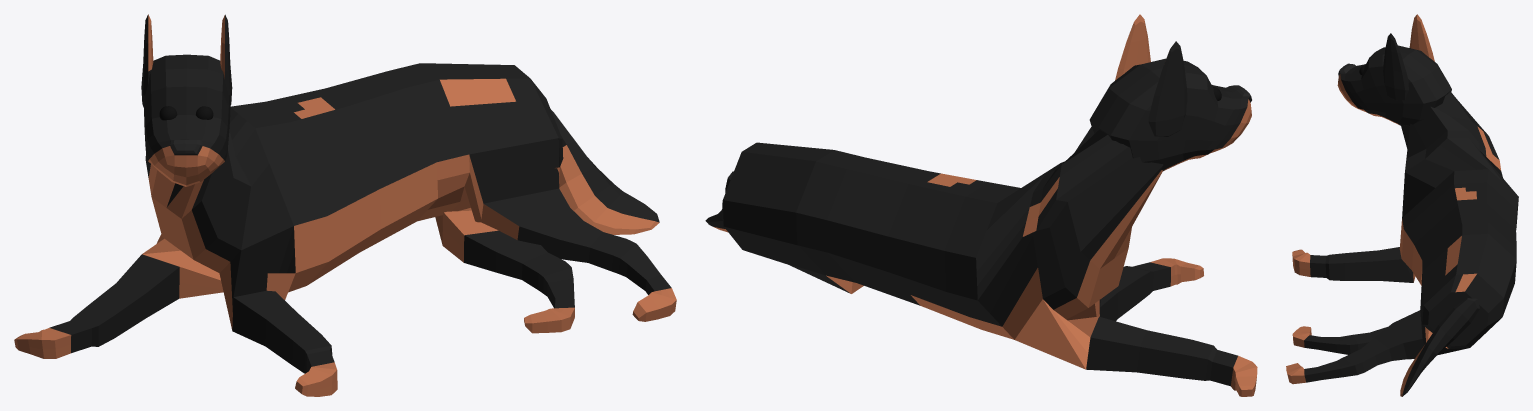
Rendered from Daisy deitada.fbx.
3 renders of one model, left to right at view 1: azimuth 30°, elevation 25°; view 2: azimuth 150°, elevation 25°; view 3: azimuth 270°, elevation 25°, orthographic. The views are drawn at different scales.
Parts seen in each view (by area): view 1: Cube.001; view 2: Cube.001; view 3: Cube.001.
Part boxes in pixels (left/top/right/bottom): Cube.001: left=14, top=14, right=676, bottom=396; Cube.001: left=705, top=14, right=1257, bottom=396; Cube.001: left=1286, top=14, right=1518, bottom=396.
Bounding box in the file's own units: 875 × 464 × 429.
